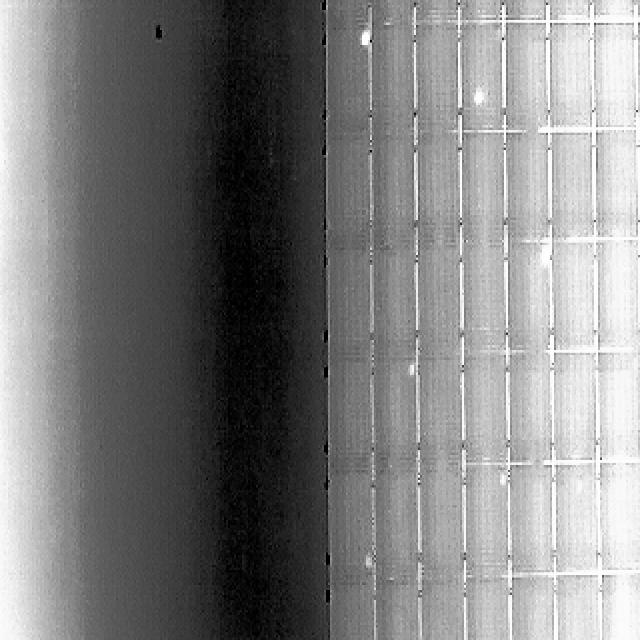Hotspots: (532, 247, 554, 280), (399, 362, 420, 381), (539, 247, 557, 269), (494, 474, 510, 497), (352, 28, 369, 48), (471, 88, 486, 104)
PV-modules: (550, 348, 600, 462), (374, 249, 424, 363), (550, 245, 599, 356), (369, 24, 418, 134), (592, 243, 640, 355), (418, 468, 465, 582), (368, 133, 415, 247), (553, 462, 601, 573), (416, 355, 464, 466), (371, 470, 418, 582), (460, 130, 506, 242), (464, 354, 510, 466), (416, 242, 462, 354), (375, 354, 421, 466), (460, 23, 506, 134), (328, 469, 374, 580), (328, 358, 372, 474), (415, 132, 460, 245), (463, 243, 509, 353), (328, 135, 372, 249), (506, 130, 552, 239), (510, 463, 556, 572), (328, 247, 373, 358), (465, 467, 509, 580), (550, 133, 596, 241), (549, 22, 594, 132), (510, 354, 554, 466), (596, 350, 640, 462), (414, 22, 459, 131), (509, 22, 553, 133), (596, 460, 640, 570), (596, 130, 640, 238), (512, 247, 555, 357), (328, 26, 371, 135), (594, 23, 638, 127), (555, 576, 602, 640), (511, 576, 557, 640), (418, 578, 465, 640), (464, 580, 512, 640), (598, 572, 640, 640), (373, 580, 419, 640), (330, 584, 377, 640), (326, 0, 370, 25), (370, 0, 420, 22), (460, 0, 506, 22), (412, 0, 458, 22), (546, 0, 590, 22), (590, 0, 636, 20), (508, 0, 550, 20), (634, 130, 640, 240), (634, 22, 640, 128), (638, 350, 640, 460), (632, 0, 640, 20)
